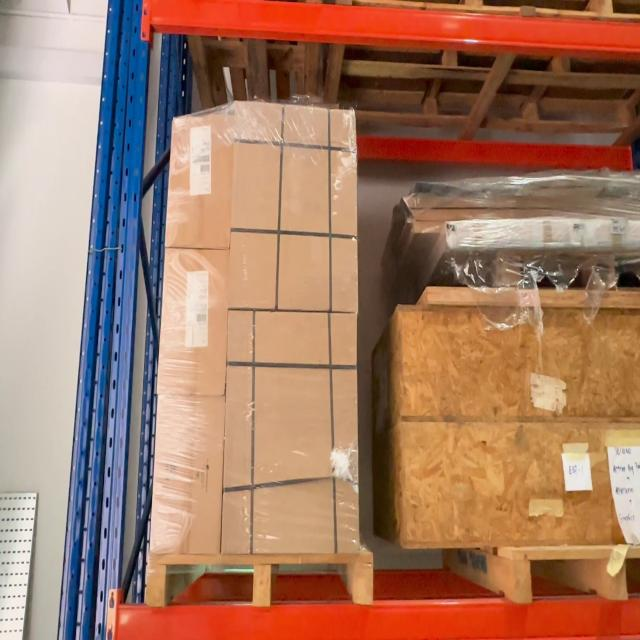box: (225, 318, 358, 550), (233, 112, 354, 310), (158, 394, 219, 552), (163, 250, 229, 392), (171, 113, 232, 247)
